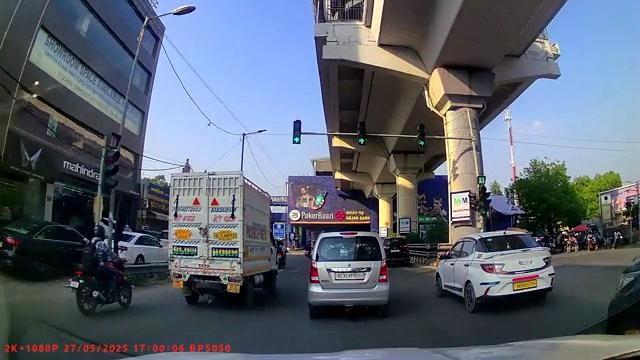motorcycle_with_helmet: (68, 224, 134, 316)
